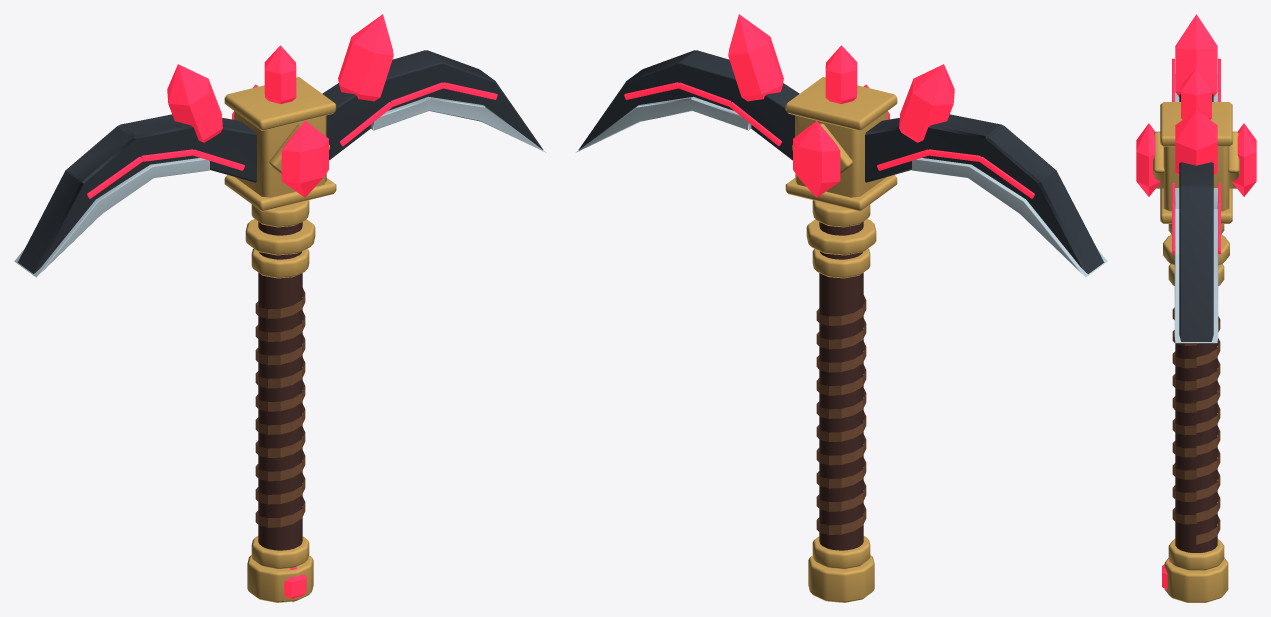
File: rubi.glb
3 views of the same model, side by side, from view 1: azimuth 30°, elevation 25°; view 2: azimuth 150°, elevation 25°; view 3: azimuth 270°, elevation 25° (orthographic). The views are drawn at different scales.
Parts seen in each view (by area): view 1: rubi__Blackened_metal.001, rubi__Royal_gold.001, rubi__Ruby_crystal.001, rubi__Leather.001, rubi__Leather_wrap.001, rubi__Steel_edge.001; view 2: rubi__Blackened_metal.001, rubi__Royal_gold.001, rubi__Ruby_crystal.001, rubi__Leather.001, rubi__Leather_wrap.001, rubi__Steel_edge.001; view 3: rubi__Ruby_crystal.001, rubi__Royal_gold.001, rubi__Blackened_metal.001, rubi__Leather.001, rubi__Leather_wrap.001, rubi__Steel_edge.001.
Boxes of the visible parts, left/top/right/bottom form: rubi__Blackened_metal.001: left=17, top=50, right=543, bottom=273; rubi__Royal_gold.001: left=224, top=77, right=336, bottom=602; rubi__Ruby_crystal.001: left=87, top=14, right=497, bottom=602; rubi__Leather.001: left=258, top=221, right=302, bottom=550; rubi__Leather_wrap.001: left=255, top=288, right=305, bottom=527; rubi__Steel_edge.001: left=14, top=96, right=546, bottom=277; rubi__Blackened_metal.001: left=578, top=50, right=1104, bottom=273; rubi__Royal_gold.001: left=785, top=77, right=897, bottom=602; rubi__Ruby_crystal.001: left=624, top=14, right=1034, bottom=198; rubi__Leather.001: left=819, top=221, right=863, bottom=550; rubi__Leather_wrap.001: left=816, top=295, right=866, bottom=534; rubi__Steel_edge.001: left=575, top=96, right=1107, bottom=277; rubi__Ruby_crystal.001: left=1136, top=14, right=1256, bottom=589; rubi__Royal_gold.001: left=1153, top=102, right=1239, bottom=602; rubi__Blackened_metal.001: left=1179, top=94, right=1213, bottom=341; rubi__Leather.001: left=1175, top=343, right=1217, bottom=552; rubi__Leather_wrap.001: left=1172, top=307, right=1220, bottom=544; rubi__Steel_edge.001: left=1174, top=74, right=1218, bottom=343.
Bounding box in the file's own units: 3.45 × 3.58 × 0.7359.
